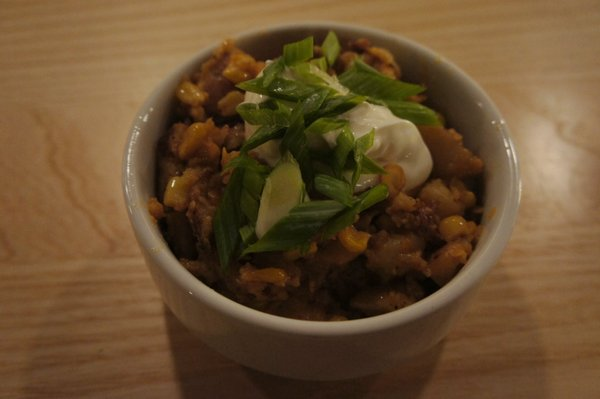sushi: (125, 18, 521, 388)
